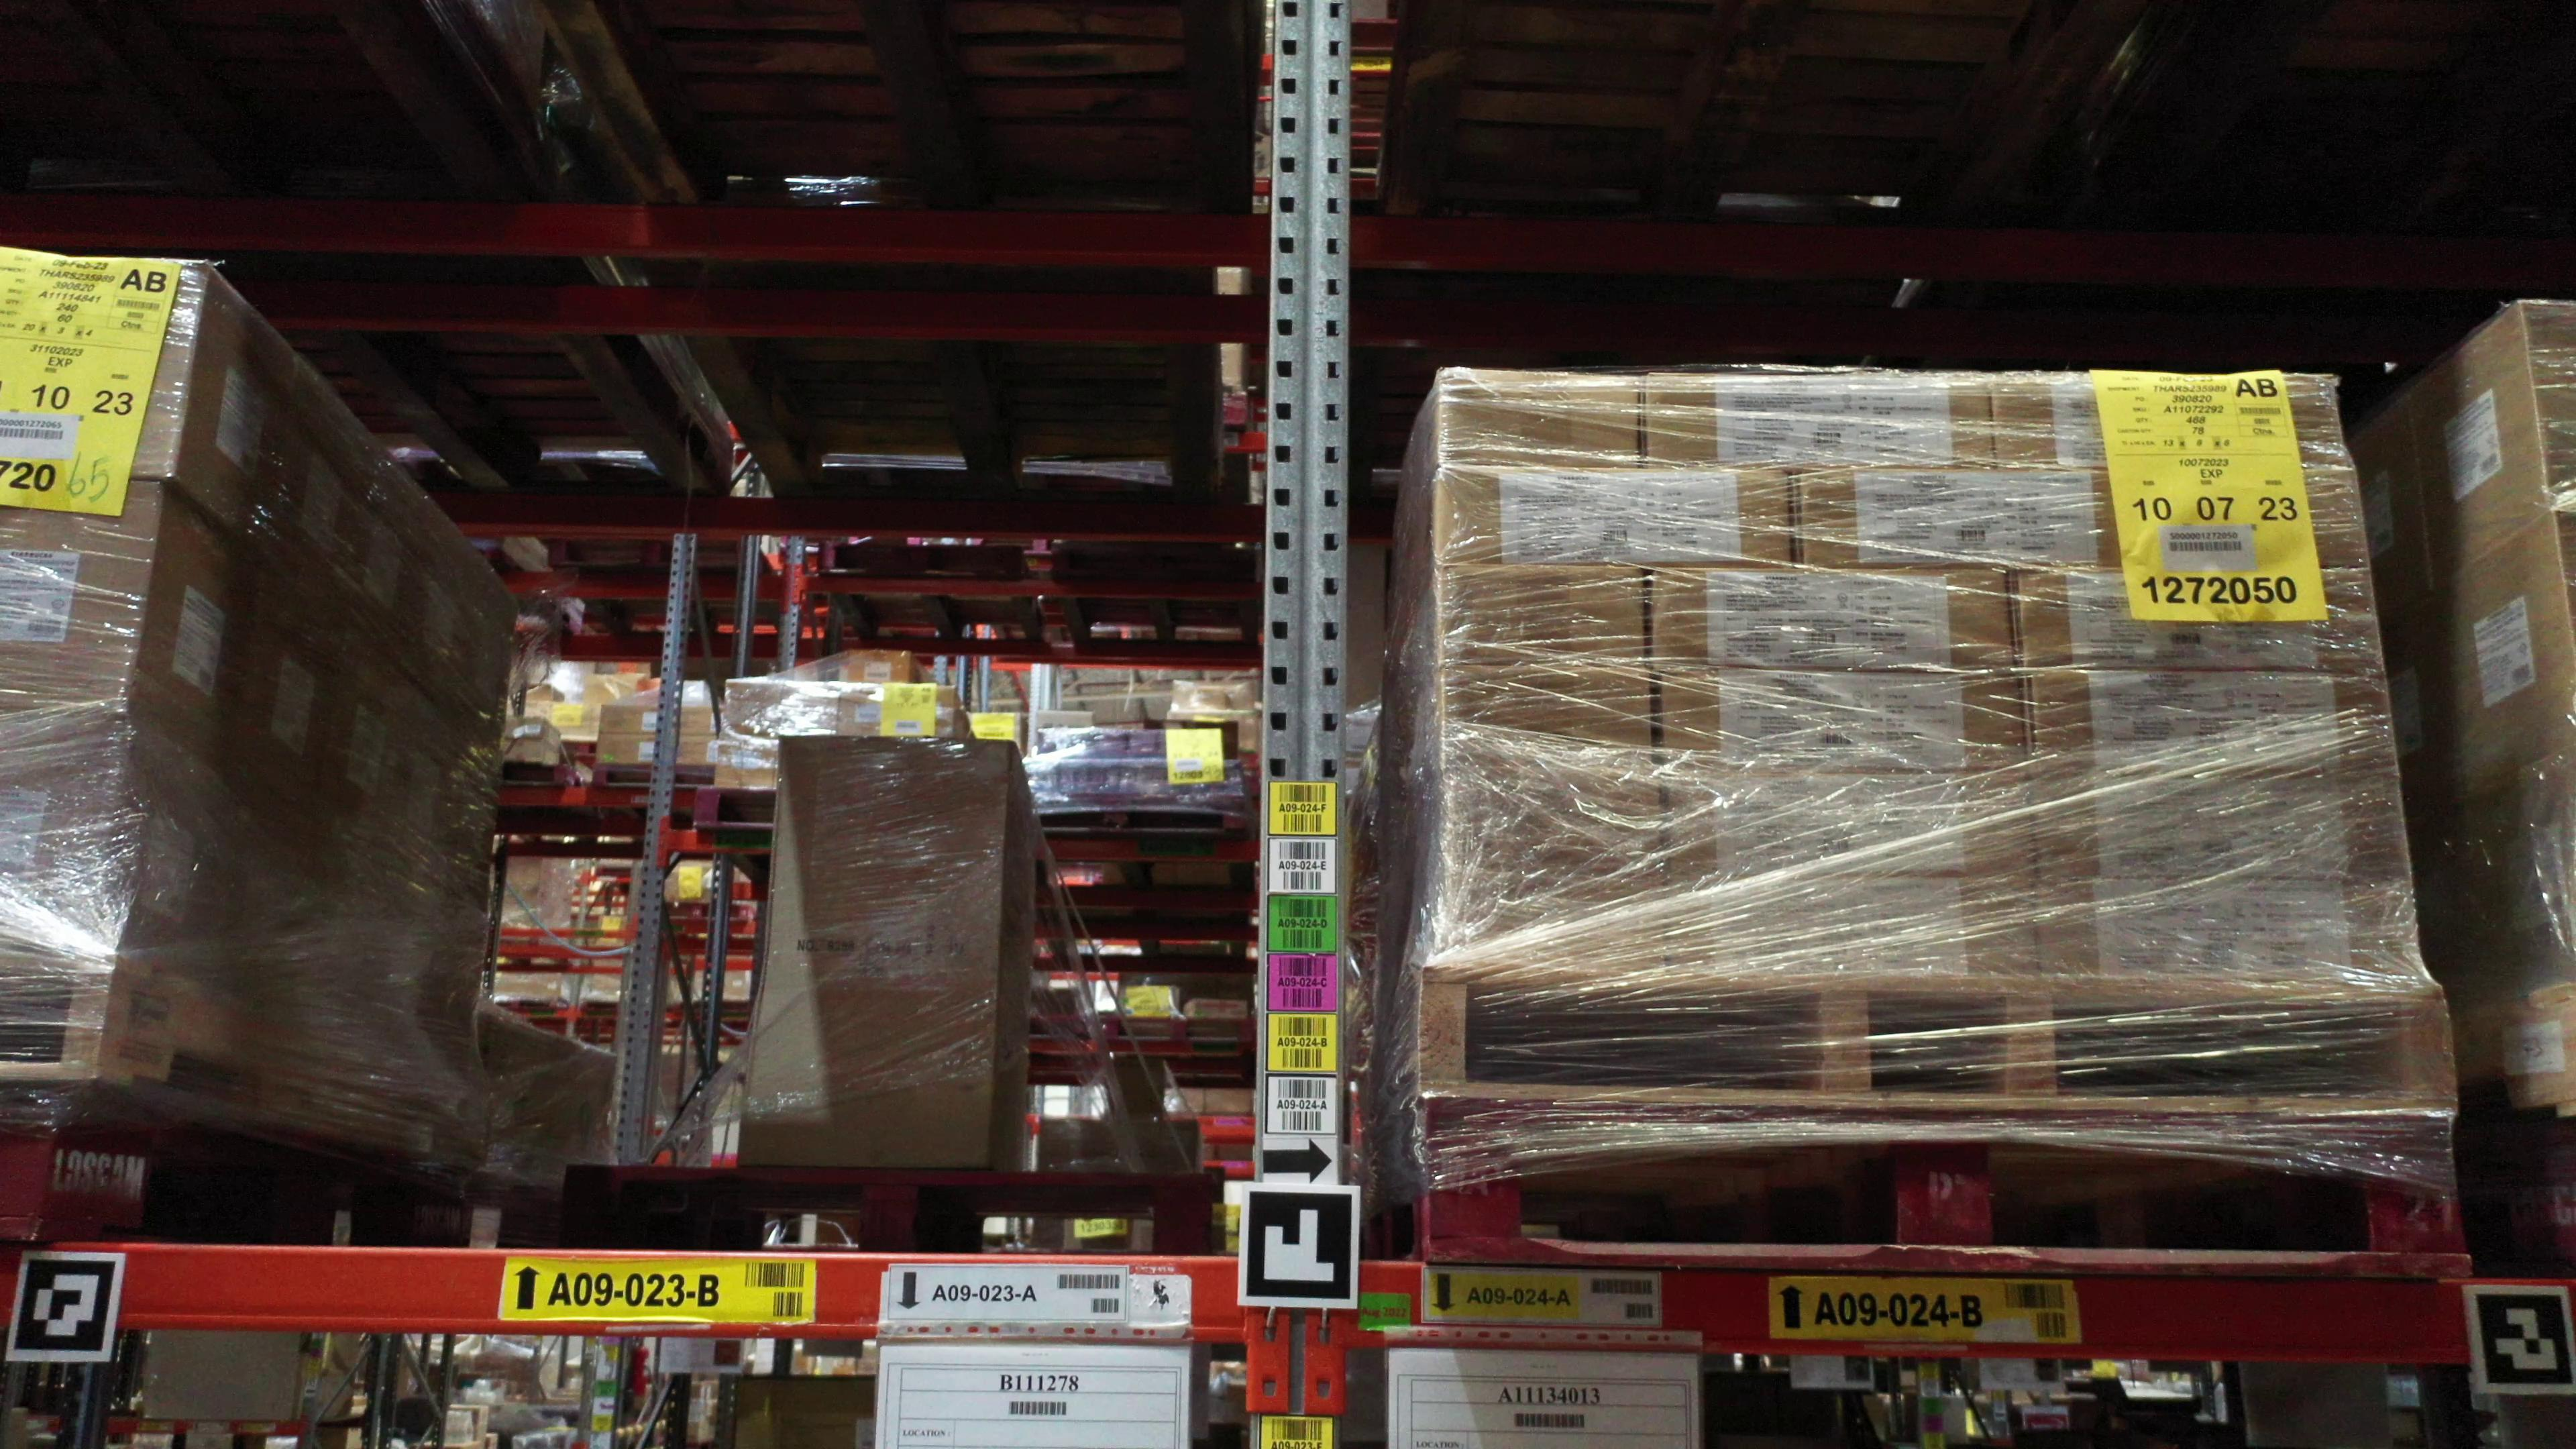-: (0, 255, 218, 478), (2028, 667, 2399, 787), (0, 465, 170, 722), (1663, 770, 2035, 886), (2028, 778, 2413, 890), (2017, 568, 2383, 679), (2036, 881, 2422, 985), (1799, 464, 2153, 577), (1668, 874, 2040, 980), (1654, 669, 2024, 773), (1651, 566, 2008, 672), (1435, 465, 1794, 568), (1992, 372, 2348, 472), (0, 706, 143, 955), (1642, 373, 1994, 472), (1442, 771, 1663, 881), (1440, 874, 1668, 973), (2150, 467, 2367, 570), (1435, 667, 1651, 770), (1440, 364, 1644, 469), (1440, 559, 1644, 663)
box: (740, 740, 1016, 1171)
